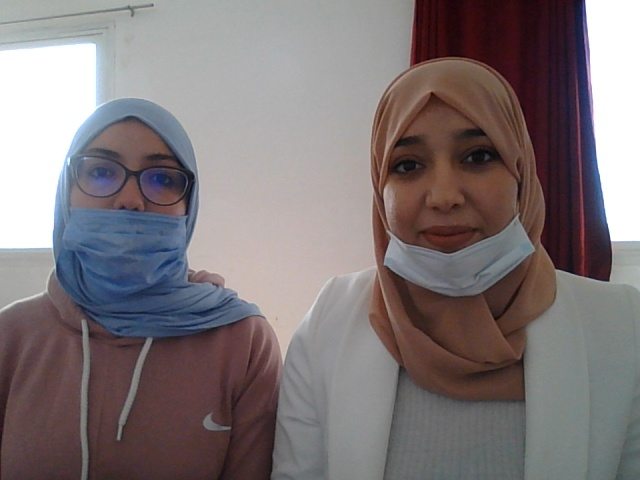mask_weared_incorrect: (361, 58, 568, 308), (56, 94, 207, 300)
